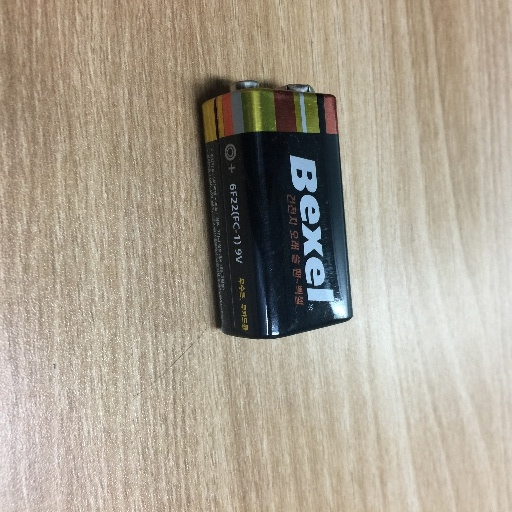Battery_3: (186, 54, 382, 365)
